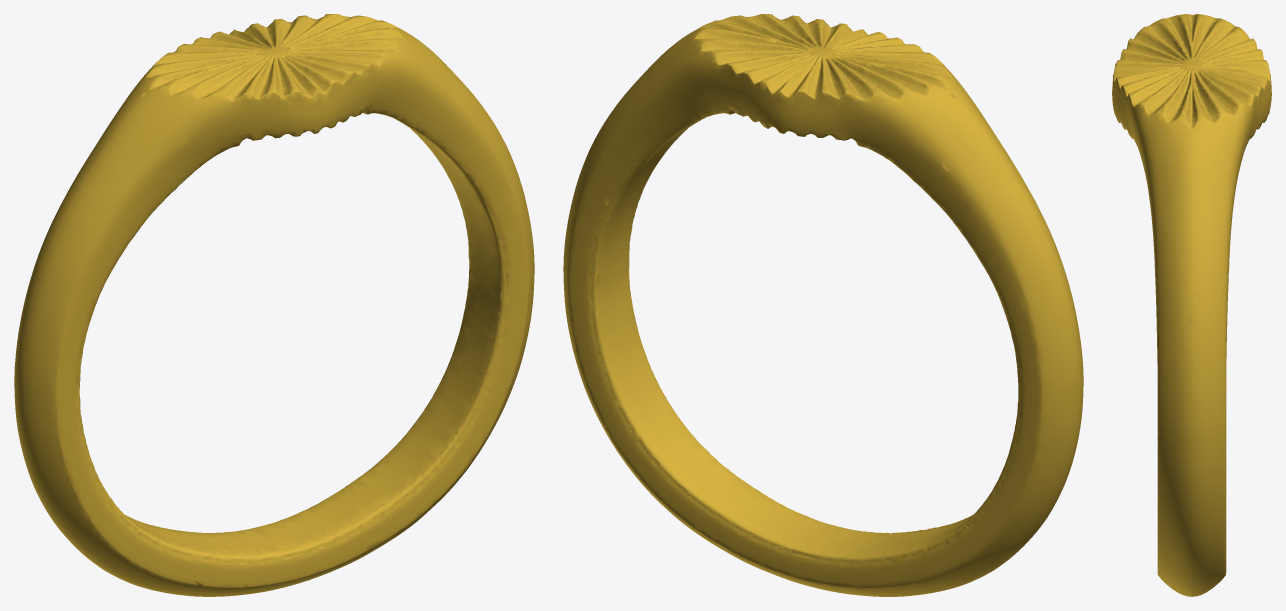
File: nhanVang.glb
3 views of the same model, side by side, from view 1: azimuth 30°, elevation 25°; view 2: azimuth 150°, elevation 25°; view 3: azimuth 270°, elevation 25° (orthographic). The views are drawn at different scales.
Visible parts, largest first — view 1: tmpelz03ibv.ply; view 2: tmpelz03ibv.ply; view 3: tmpelz03ibv.ply.
Part boxes in pixels (bbox=[...]): tmpelz03ibv.ply: bbox=[14, 14, 534, 596]; tmpelz03ibv.ply: bbox=[563, 14, 1083, 596]; tmpelz03ibv.ply: bbox=[1112, 14, 1271, 596].
Bounding box in the file's own units: 0.9999 × 0.9989 × 0.2878.
